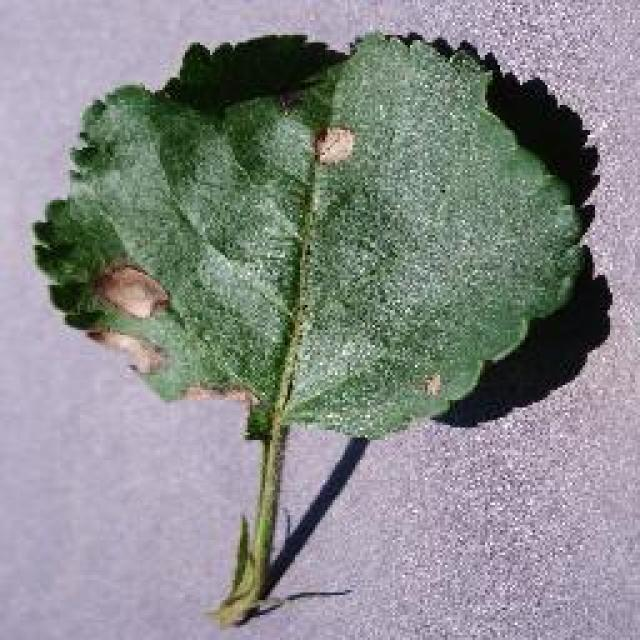Black_rot: (30, 27, 598, 625)
